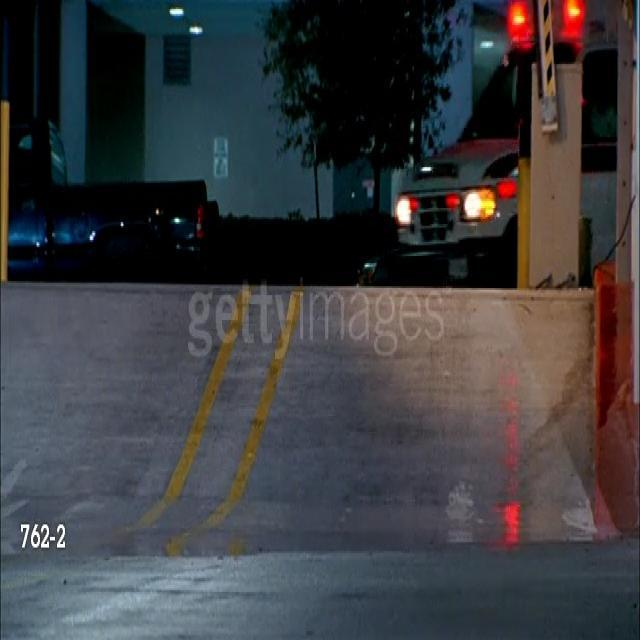emergency: (388, 1, 532, 268)
